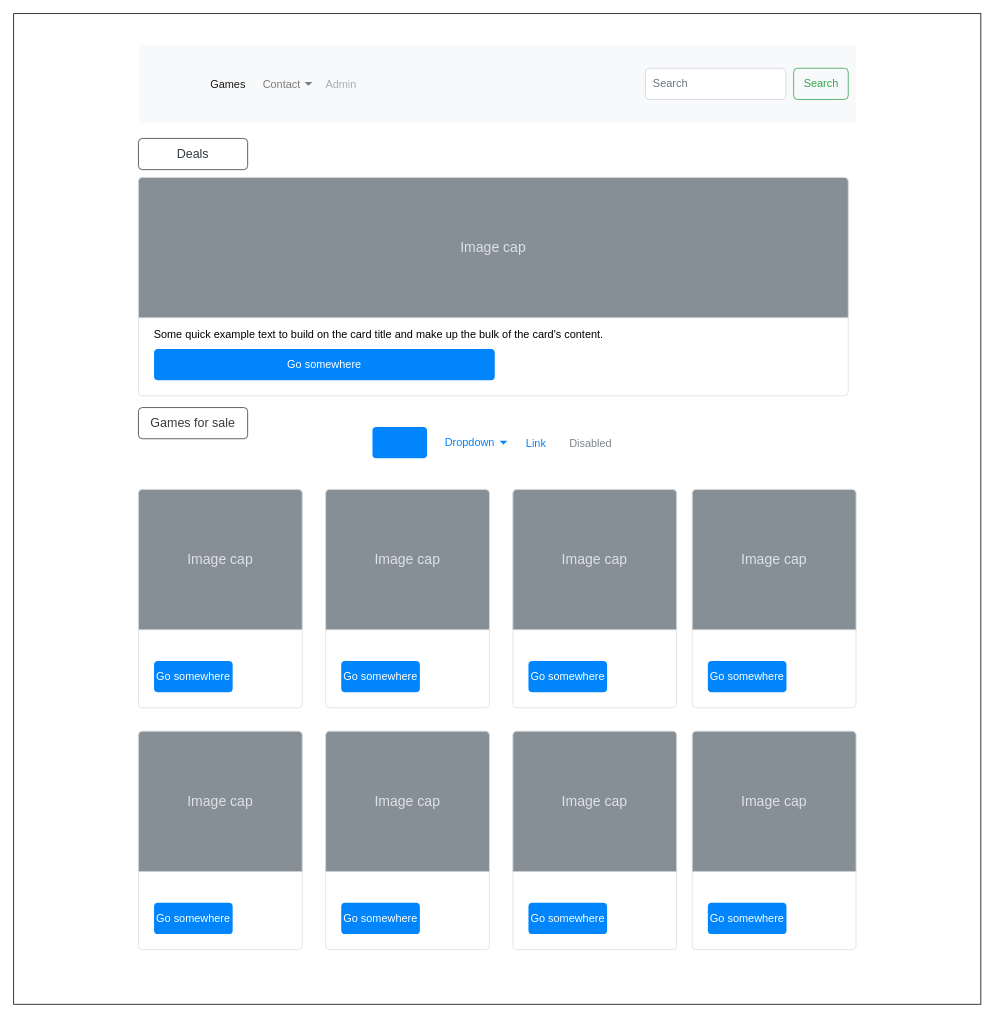
This 994x1018 diagram has some shape labels left out. The shapes that lost their labels are listed below. From the top down, each one's box as (x1, y1, x2, y2) in pixels, then its label:
(138, 44, 856, 122): Navbar
(372, 427, 427, 458): Active
